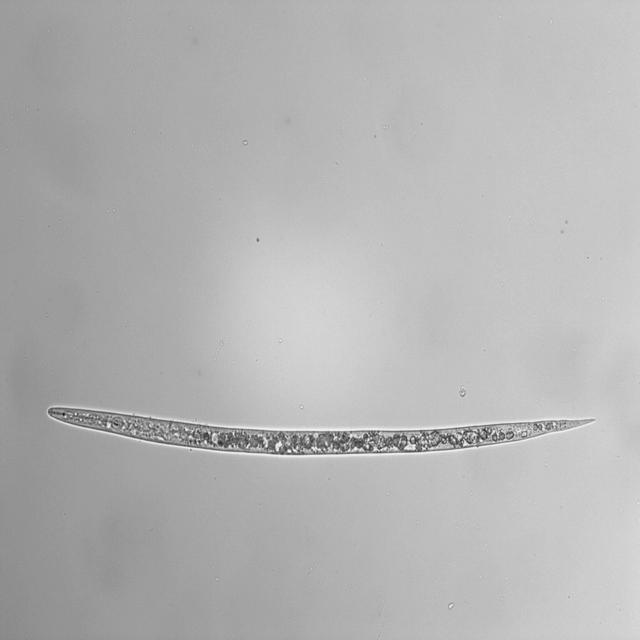Meloidogyne: (43, 398, 605, 461)
